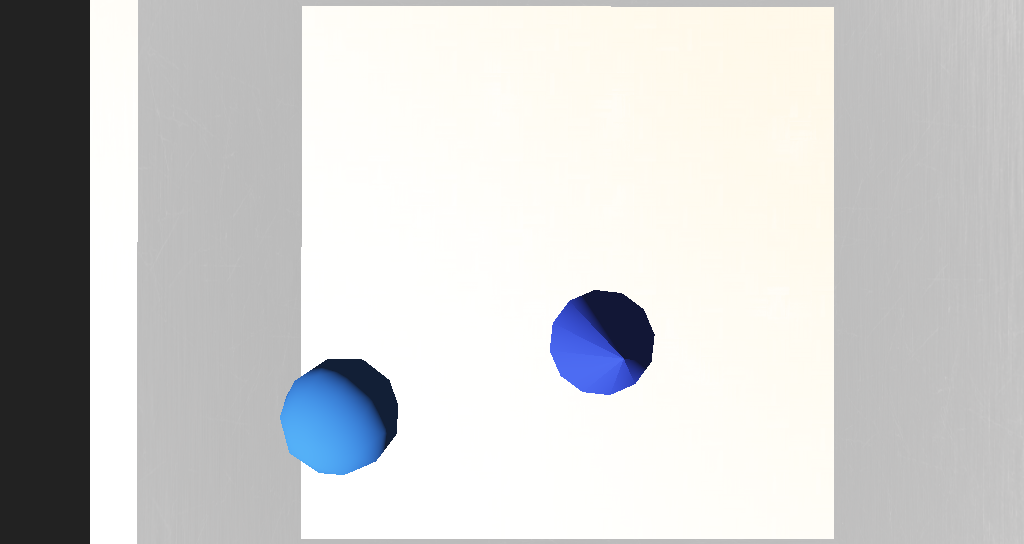cone: (593, 439, 660, 506)
cylinder: (485, 272, 566, 329)
sphere: (354, 303, 414, 346)
